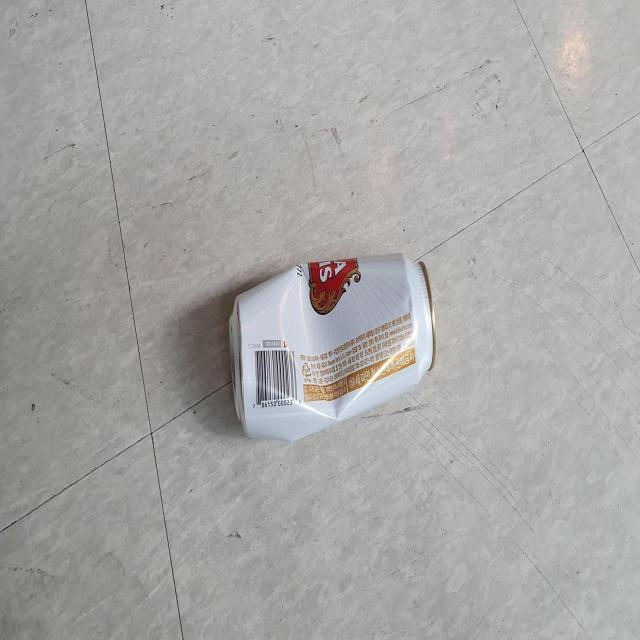can: (230, 253, 436, 441)
